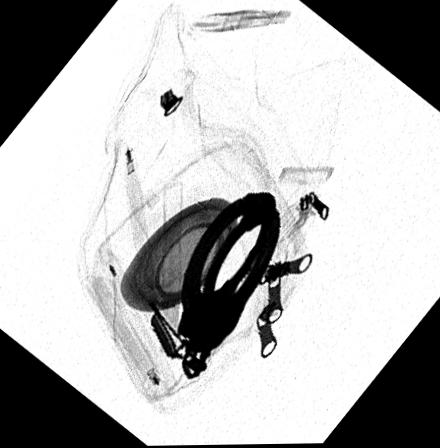HandCuffs: (175, 192, 280, 379)
